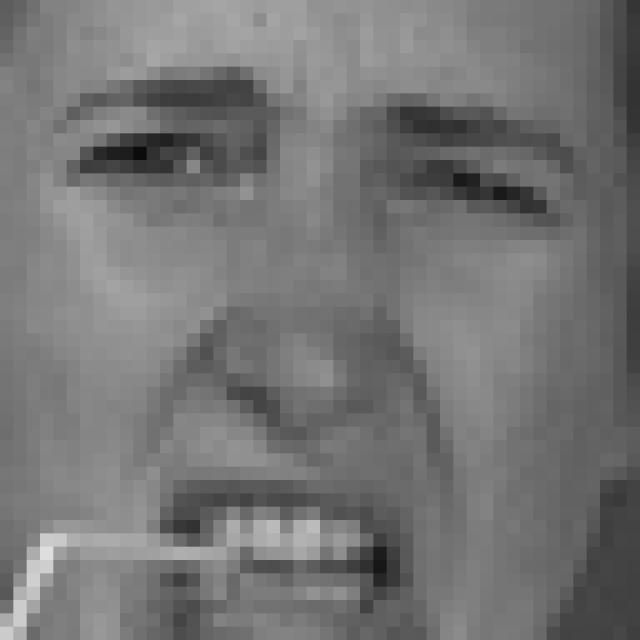disgust: (65, 69, 582, 640)
